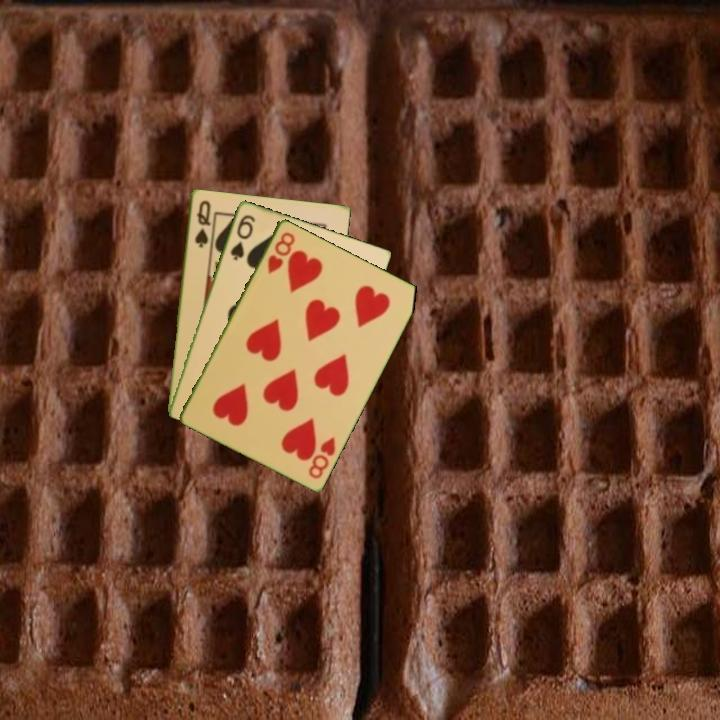6s: (227, 211, 258, 263)
8h: (264, 228, 298, 276), (305, 433, 338, 481)
Qs: (191, 196, 213, 250)
